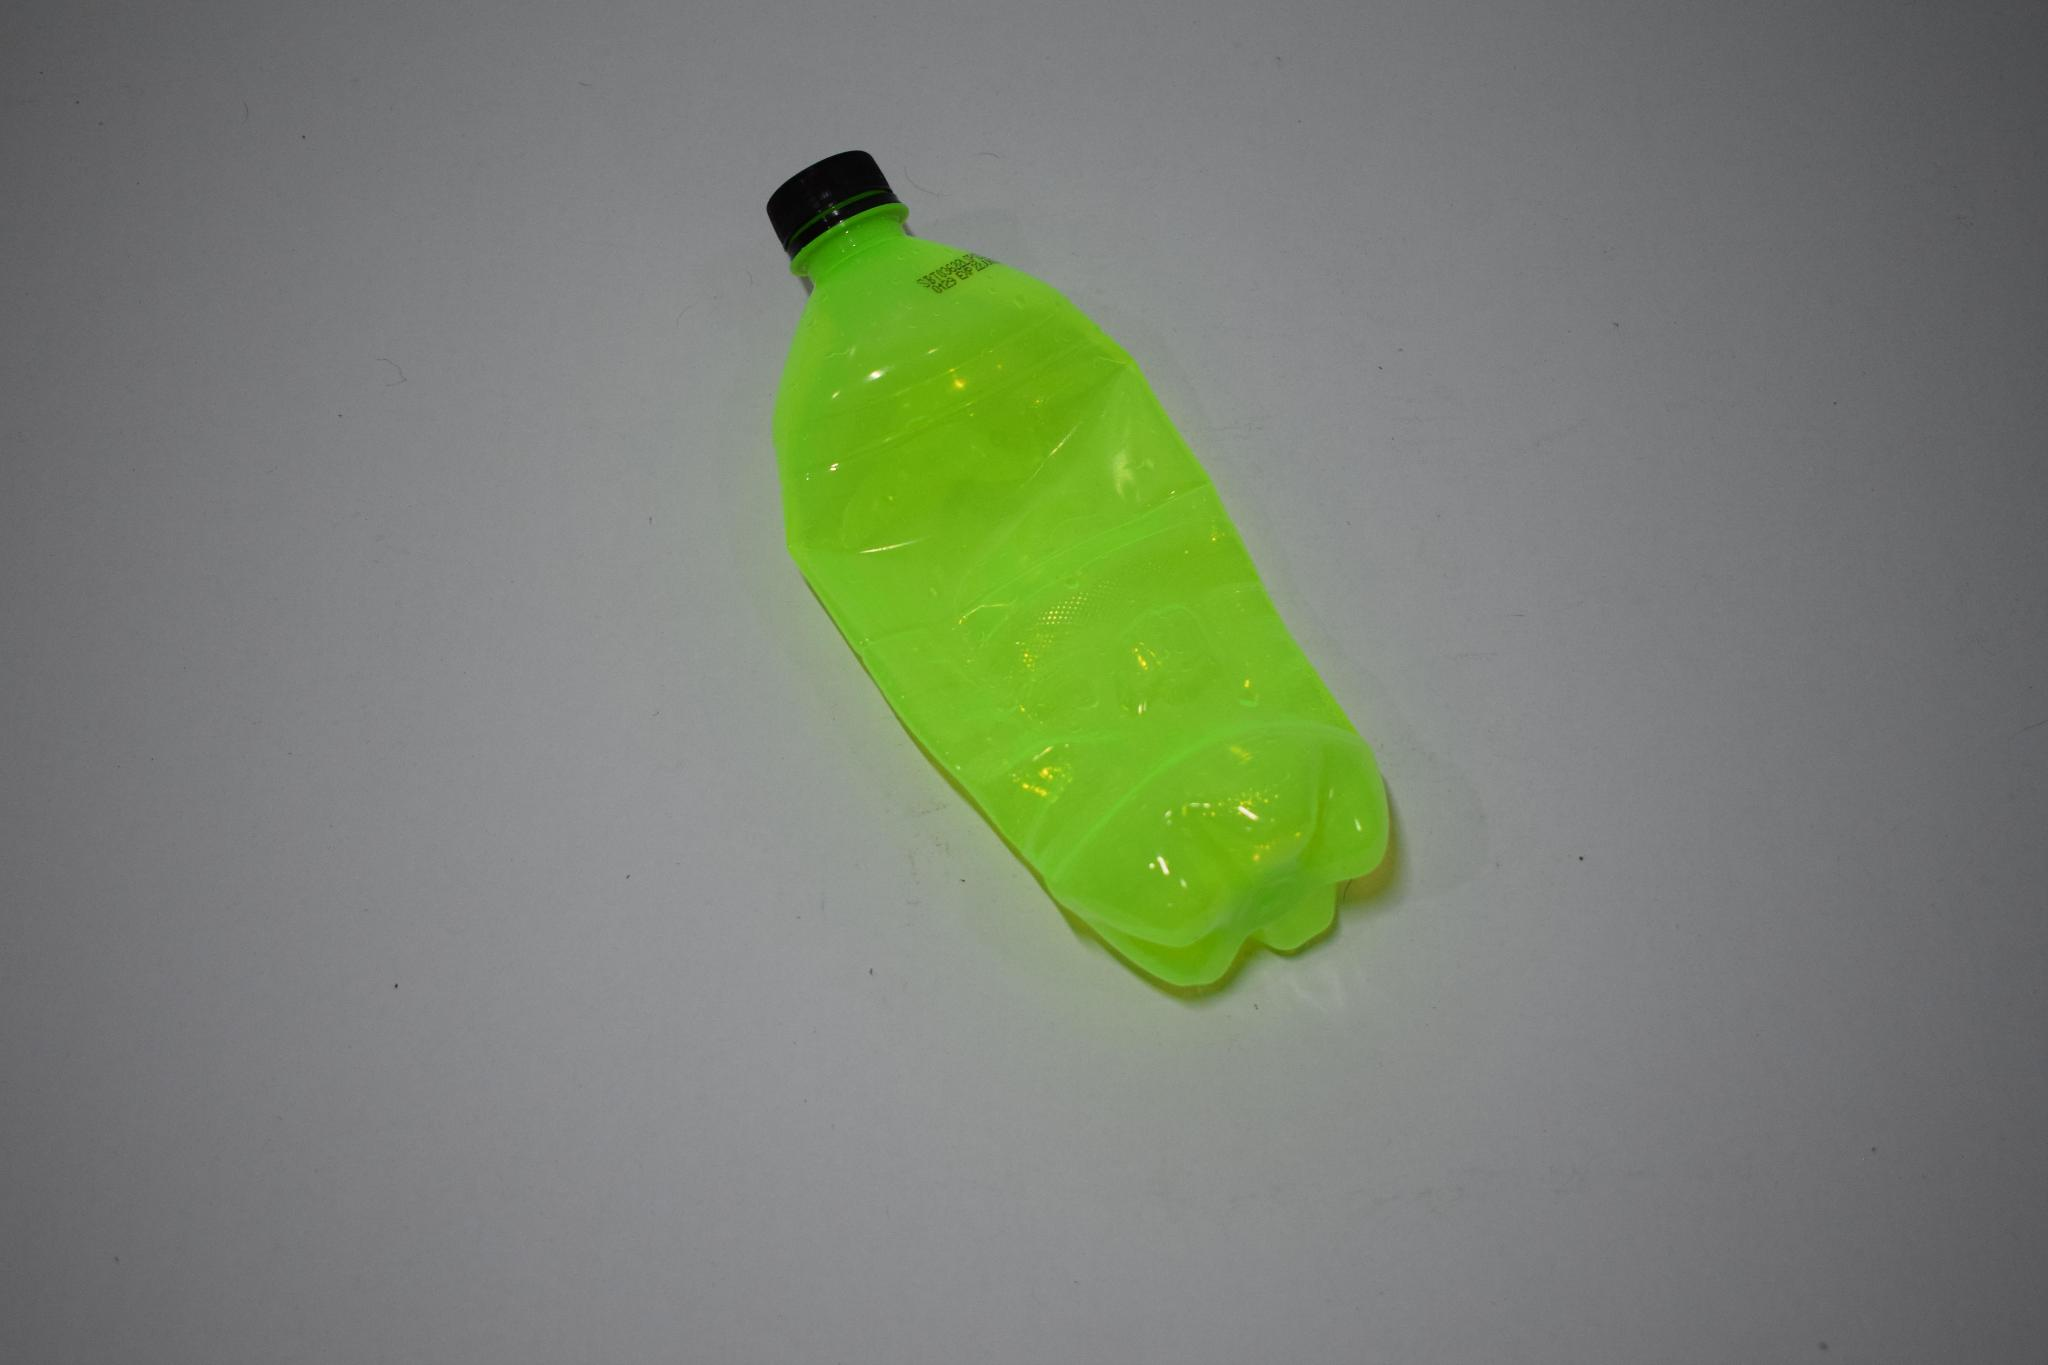bottle: (769, 143, 1395, 1002)
